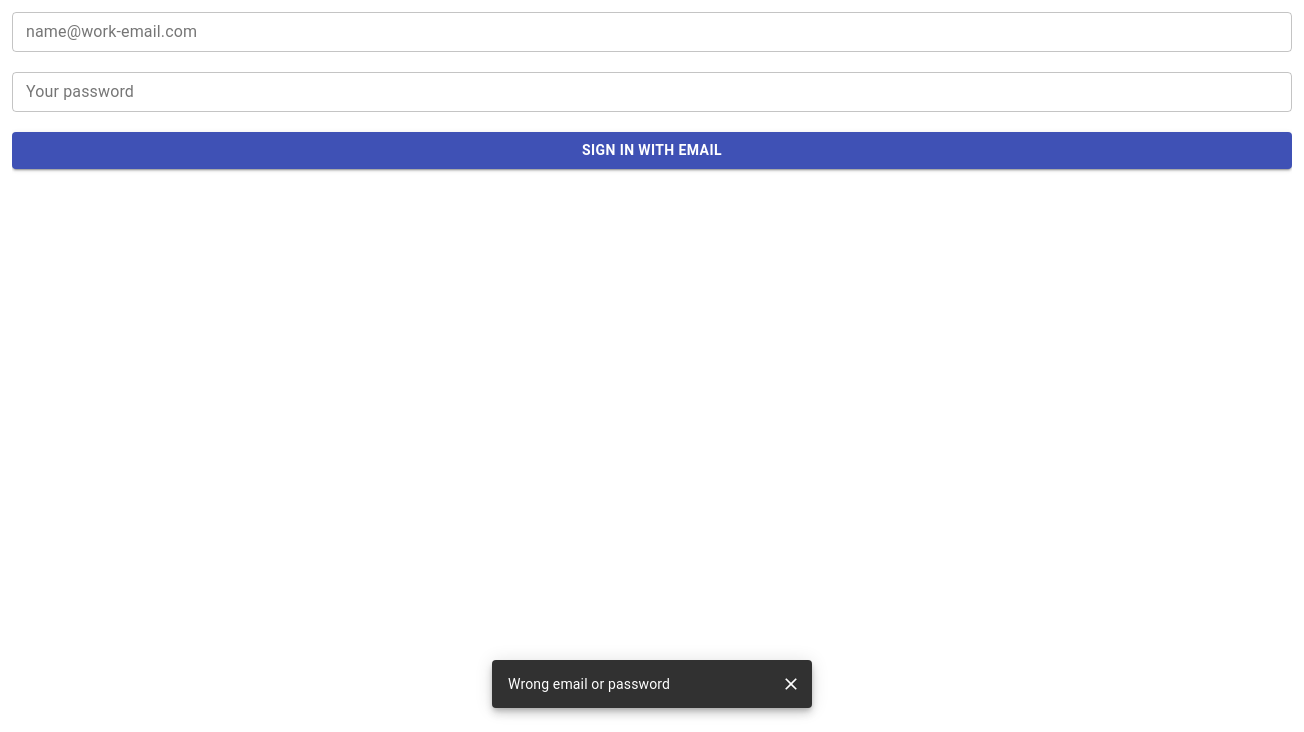
it: SignInForm tests › close error snackbar on close icon click
Expected: the text "Wrong email or password" is shown, left=508, top=676, right=670, bottom=692
Click the button named "Close" at (791, 684), box left=778, top=671, right=804, bottom=697
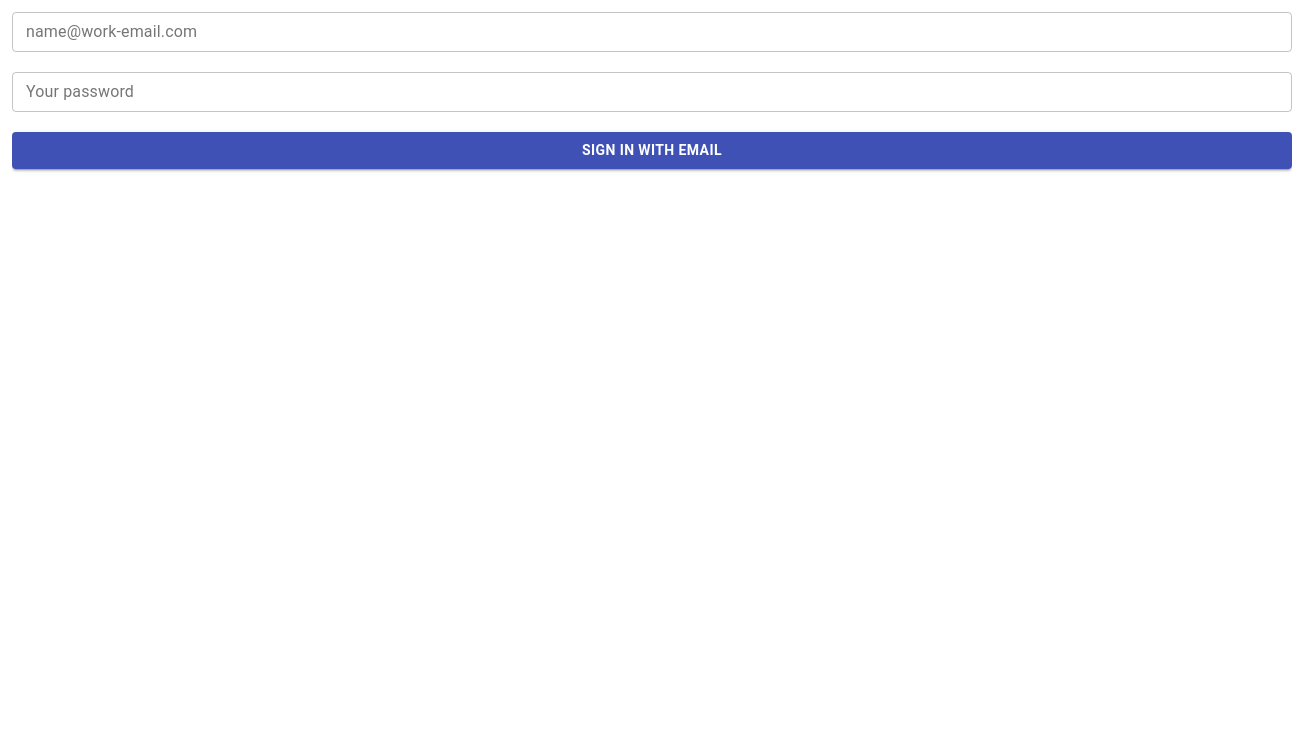
Expected: the text "Wrong email or password" is gone
